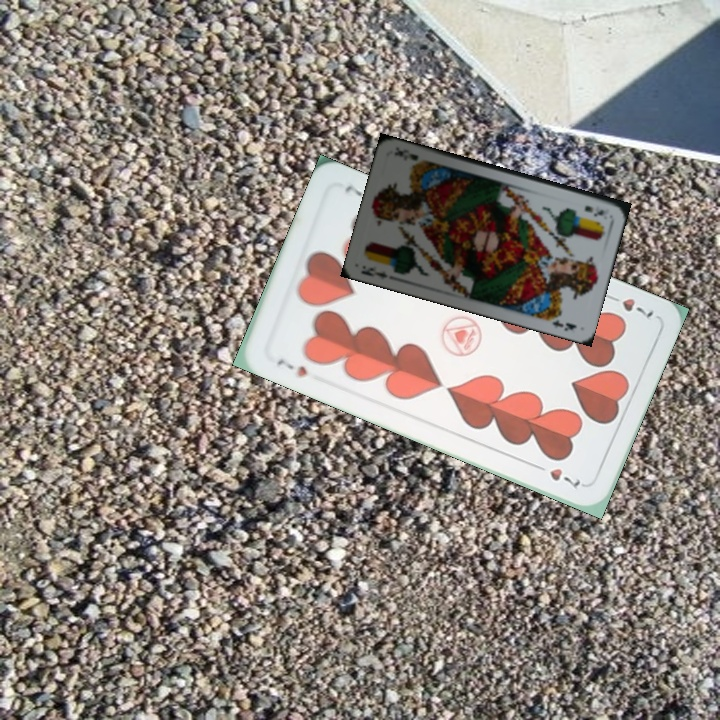EK: (357, 262, 390, 282), (580, 202, 607, 218)
H7: (602, 290, 657, 321), (273, 354, 310, 381)
